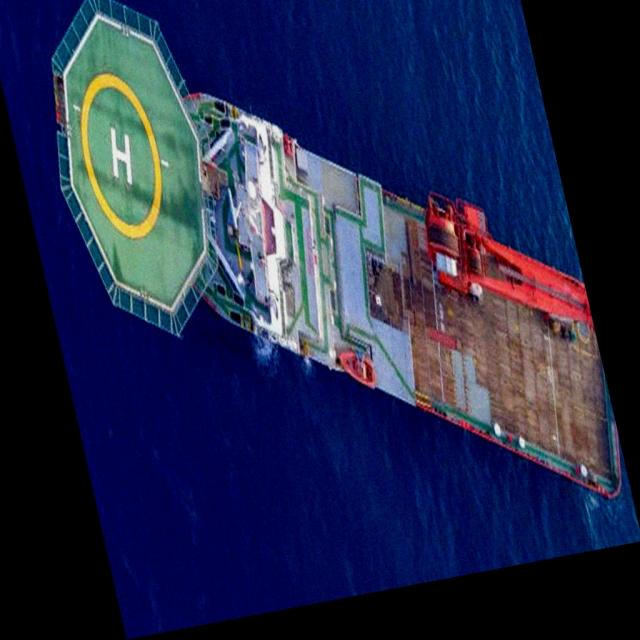helipad: (77, 68, 167, 241)
